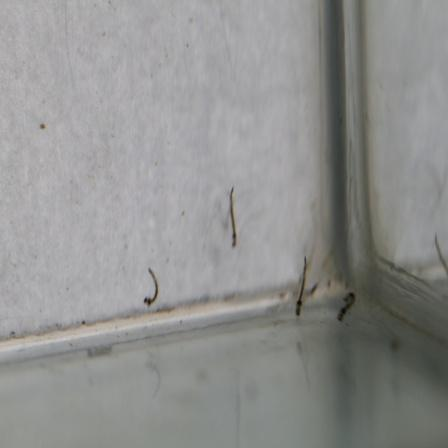Jentik-Nyamuk: (226, 184, 243, 249), (142, 266, 161, 306)
